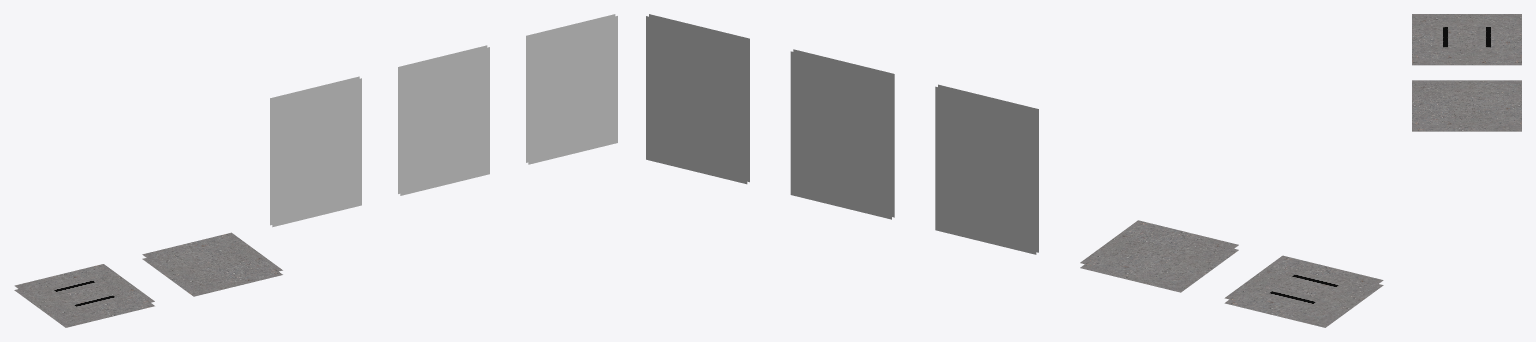
Rendered from building_parts_filled.glb.
3 renders of one model, left to right at view 1: azimuth 30°, elevation 25°; view 2: azimuth 150°, elevation 25°; view 3: azimuth 270°, elevation 25°, orthographic. The views are drawn at different scales.
Visible parts, largest first — view 1: Wall, Window, Door, Hole, Floor; view 2: Window, Wall, Door, Floor, Hole; view 3: Floor, Hole.
Part boxes in pixels (x1,y1,x2,y2): Wall: (270, 76, 361, 227); Window: (398, 45, 489, 195); Door: (526, 14, 617, 164); Hole: (14, 264, 154, 327); Floor: (142, 232, 282, 296); Window: (790, 49, 894, 219); Wall: (935, 84, 1038, 254); Door: (646, 14, 749, 184); Floor: (1080, 220, 1238, 292); Hole: (1224, 255, 1383, 327); Floor: (1412, 80, 1521, 131); Hole: (1412, 14, 1521, 65).
Bounding box in the file's own units: 14.1 × 2.9 × 2.1.
Materials: 2 (1 with a texture image).
